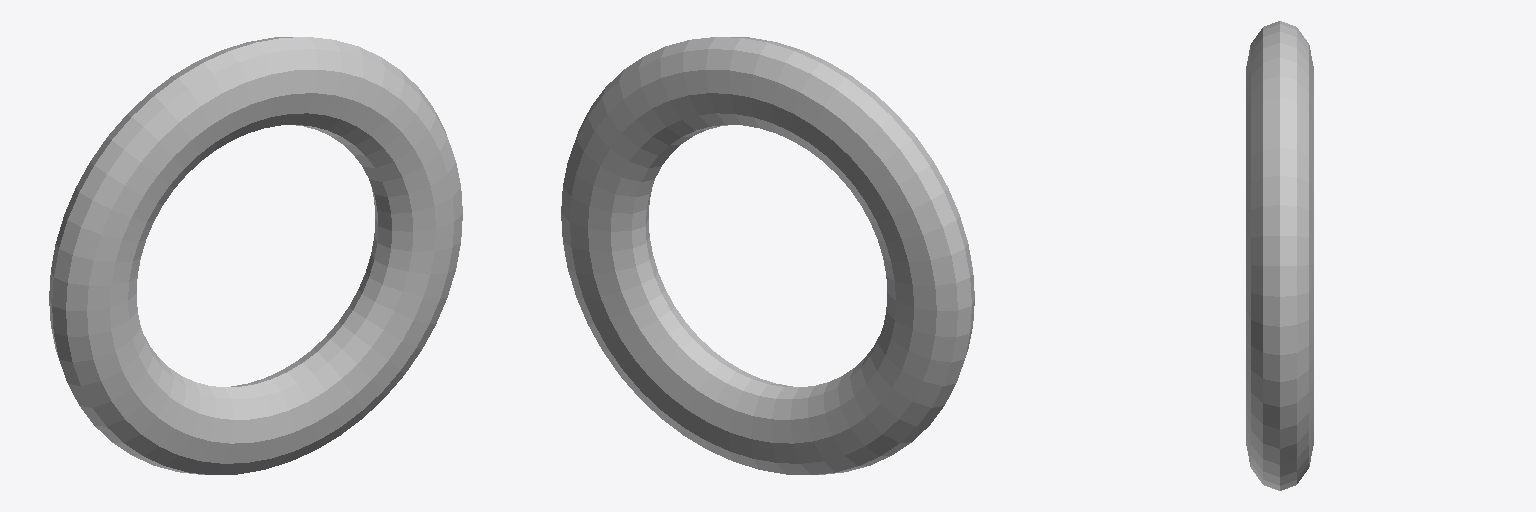
Rendered from toy_plane_right_front_wheel.obj.
3 views of the same model, side by side, from view 1: azimuth 30°, elevation 25°; view 2: azimuth 150°, elevation 25°; view 3: azimuth 270°, elevation 25° (orthographic).
Visible parts, largest first — view 1: front_wheel_right_Torus; view 2: front_wheel_right_Torus; view 3: front_wheel_right_Torus.
Boxes of the visible parts, <box> form: front_wheel_right_Torus: <box>49,37,462,474</box>; front_wheel_right_Torus: <box>561,37,974,474</box>; front_wheel_right_Torus: <box>1246,21,1313,490</box>.
Size of the model in its own units: 0.625 by 0.625 by 0.0898.